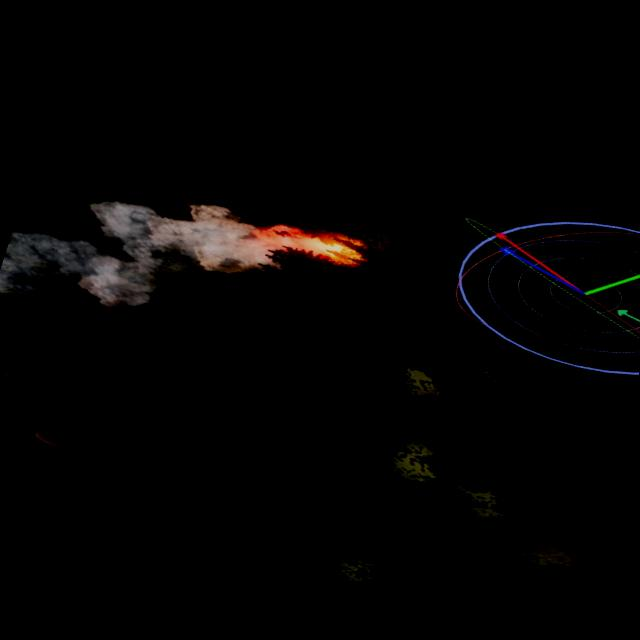fire: (280, 216, 362, 272)
smoke: (0, 141, 289, 369)
